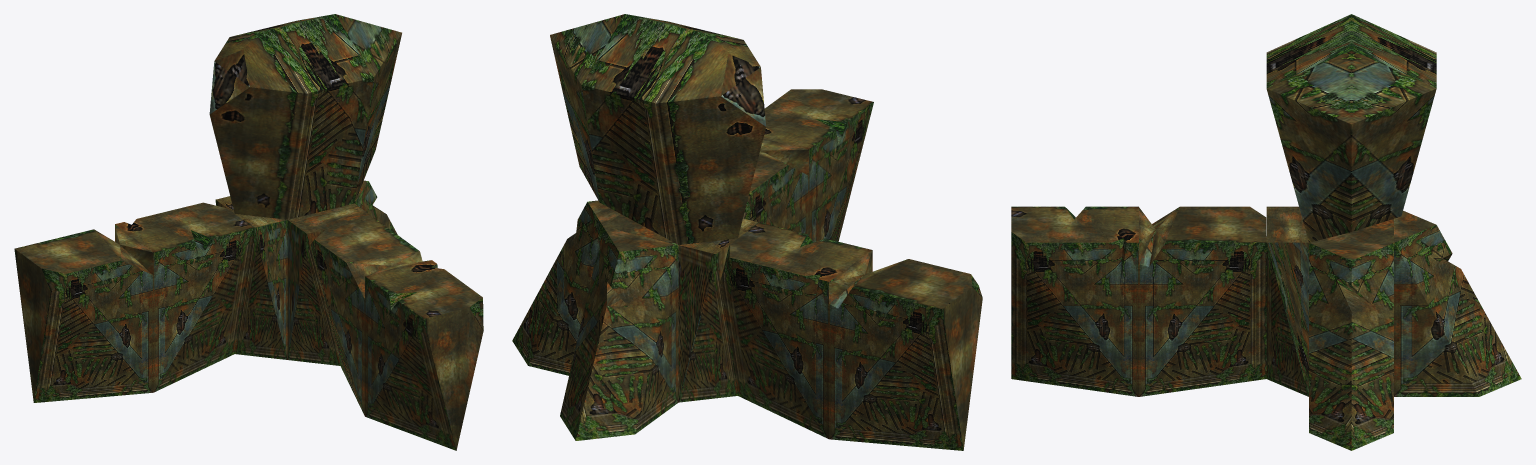
File: mbwall03.FBX
3 renders of one model, left to right at view 1: azimuth 30°, elevation 25°; view 2: azimuth 150°, elevation 25°; view 3: azimuth 270°, elevation 25°, orthographic. The views are drawn at different scales.
Parts seen in each view (by area): view 1: mbwall03; view 2: mbwall03; view 3: mbwall03.
Boxes of the visible parts, left/top/right/bottom form: mbwall03: left=14, top=14, right=483, bottom=450; mbwall03: left=512, top=14, right=982, bottom=450; mbwall03: left=1011, top=14, right=1521, bottom=450.
Size of what is drawn, in the model's own units: 24 by 24 by 18.
